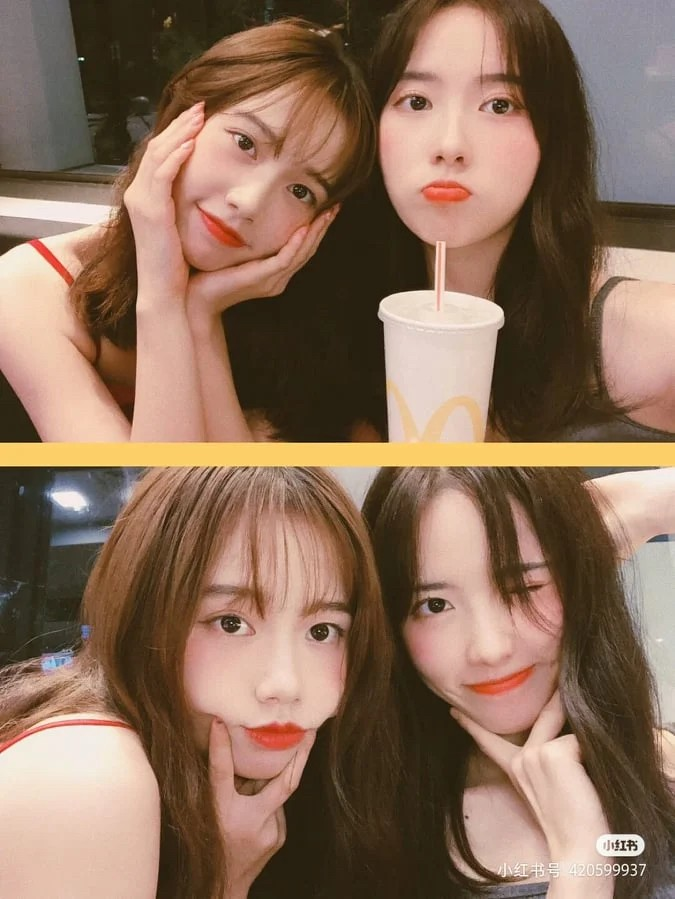people: (63, 476, 358, 891), (110, 22, 369, 455), (376, 468, 615, 895), (366, 5, 570, 446)
